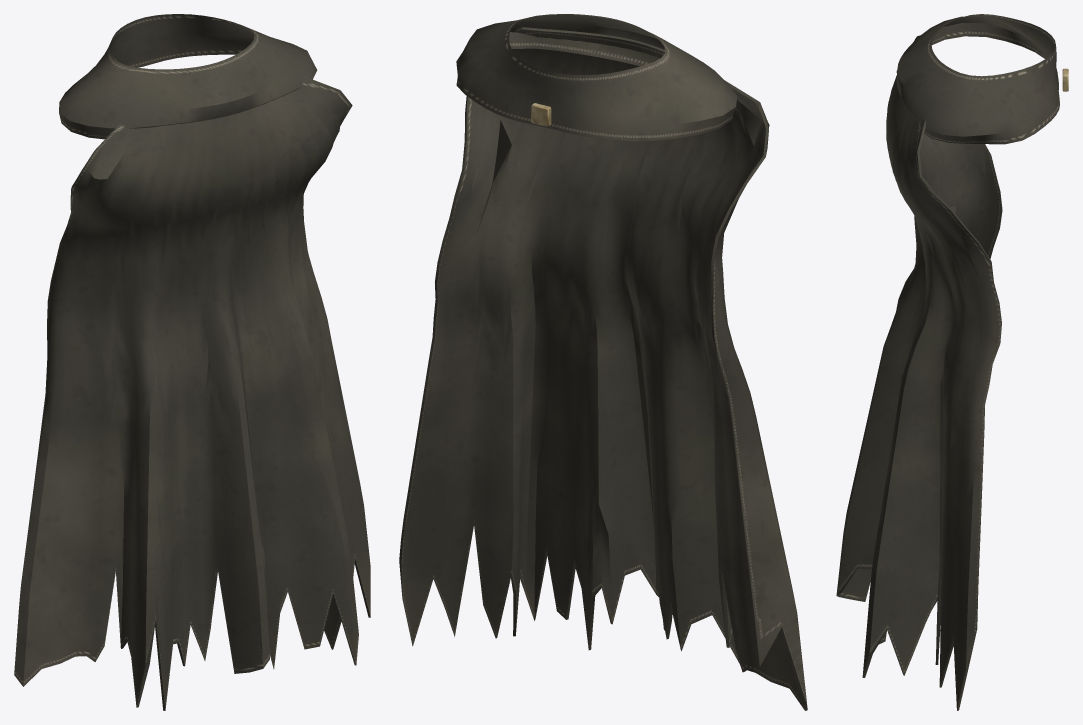
File: armor_cloak_display.glb
3 views of the same model, side by side, from view 1: azimuth 30°, elevation 25°; view 2: azimuth 150°, elevation 25°; view 3: azimuth 270°, elevation 25° (orthographic). The views are drawn at different scales.
Parts seen in each view (by area): view 1: armor_cloak; view 2: armor_cloak; view 3: armor_cloak.
Part boxes in pixels (<box>): armor_cloak: <box>14,14,370,710</box>; armor_cloak: <box>399,14,807,710</box>; armor_cloak: <box>836,14,1068,710</box>.
Bounding box in the file's own units: 0.6804 × 1.08 × 0.3903.
Materials: 1 (1 with a texture image).
